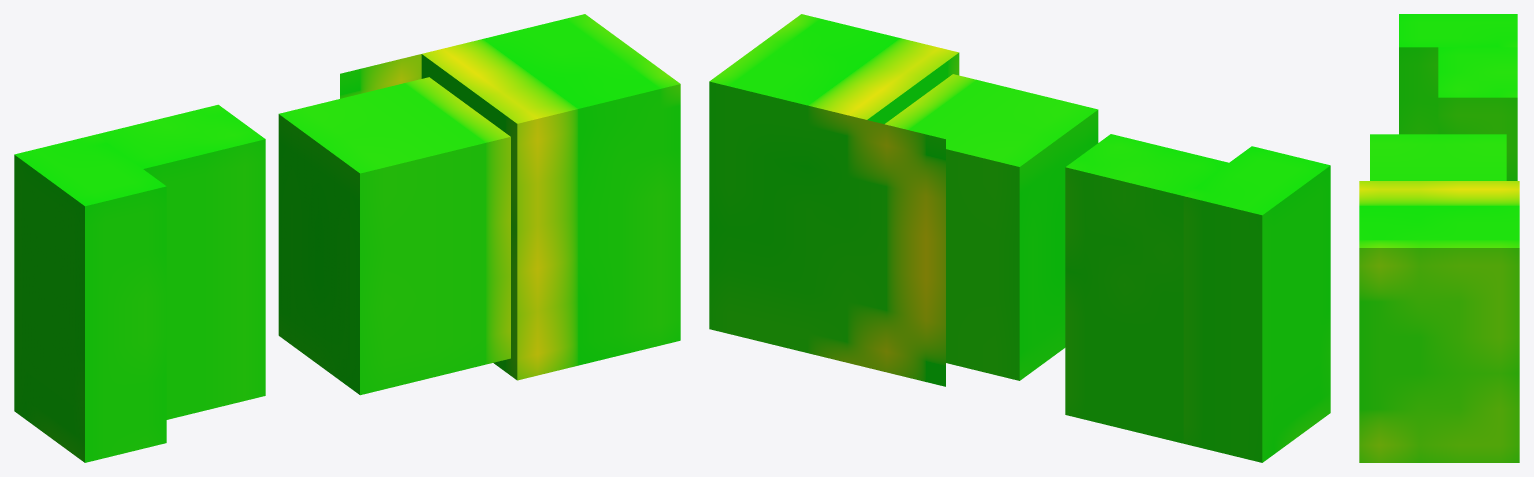
Rendered from SM_R_Arm_IllagerTowerGuard.glb.
The picture shows the model from 3 angles, left to right: view 1: azimuth 30°, elevation 25°; view 2: azimuth 150°, elevation 25°; view 3: azimuth 270°, elevation 25°; orthographic projection. The views are drawn at different scales.
Parts seen in each view (by area): view 1: SM_R_Arm_IllagerTowerGuard.001; view 2: SM_R_Arm_IllagerTowerGuard.001; view 3: SM_R_Arm_IllagerTowerGuard.001.
Boxes of the visible parts, left/top/right/bottom form: SM_R_Arm_IllagerTowerGuard.001: left=14, top=14, right=680, bottom=462; SM_R_Arm_IllagerTowerGuard.001: left=709, top=14, right=1330, bottom=462; SM_R_Arm_IllagerTowerGuard.001: left=1359, top=14, right=1519, bottom=462.
Size of the model in its own units: 87.48 by 37.5 by 25.32.
Materials: 1 (1 with a texture image).
